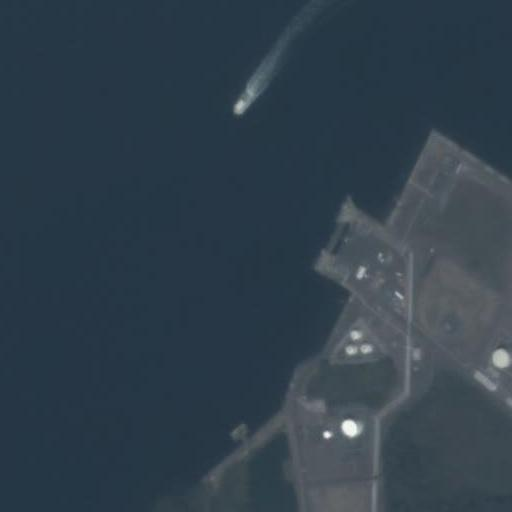person: (233, 97, 249, 115)
